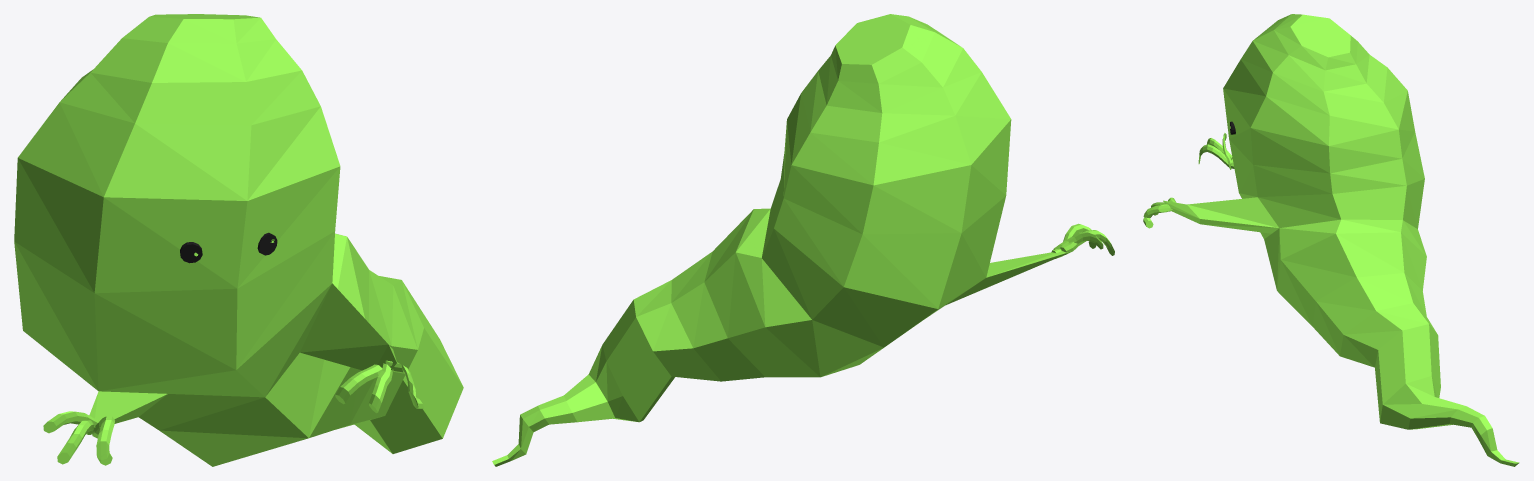
Rendered from ghost2.glb.
3 views of the same model, side by side, from view 1: azimuth 30°, elevation 25°; view 2: azimuth 150°, elevation 25°; view 3: azimuth 270°, elevation 25° (orthographic). The views are drawn at different scales.
Visible parts, largest first — view 1: group473796594; view 2: group473796594; view 3: group473796594.
Part boxes in pixels (box(x1,y1,x2,y2)): group473796594: box(14, 14, 463, 466); group473796594: box(492, 14, 1114, 466); group473796594: box(1143, 14, 1519, 466).
Bounding box in the file's own units: 1.55 × 1.42 × 1.43.
